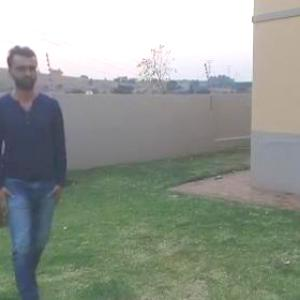follow: (4, 39, 80, 299)
